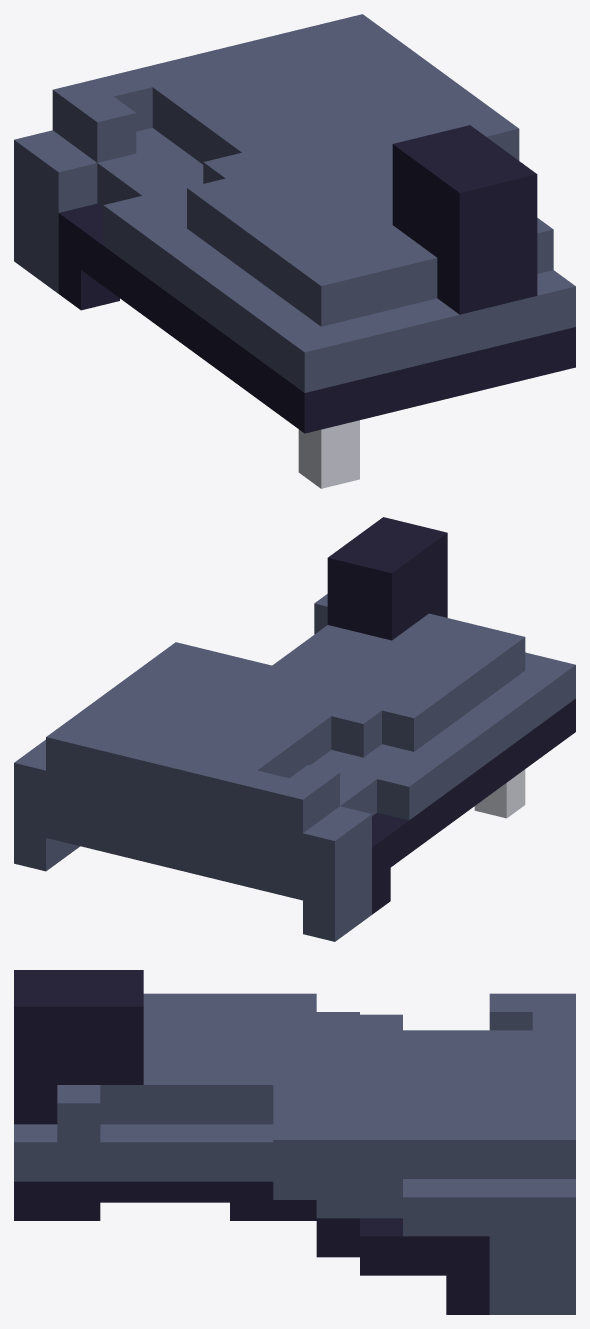
File: Anubis_25-0.obj
3 views of the same model, one above another, from view 1: azimuth 30°, elevation 25°; view 2: azimuth 150°, elevation 25°; view 3: azimuth 270°, elevation 25° (orthographic). The views are drawn at different scales.
Bounding box in the file's own units: 1 × 0.7 × 1.3.
1 material, 1 textured.
